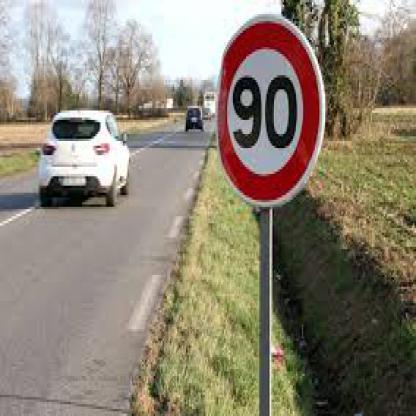Speed Limit 90: (221, 16, 321, 204)
